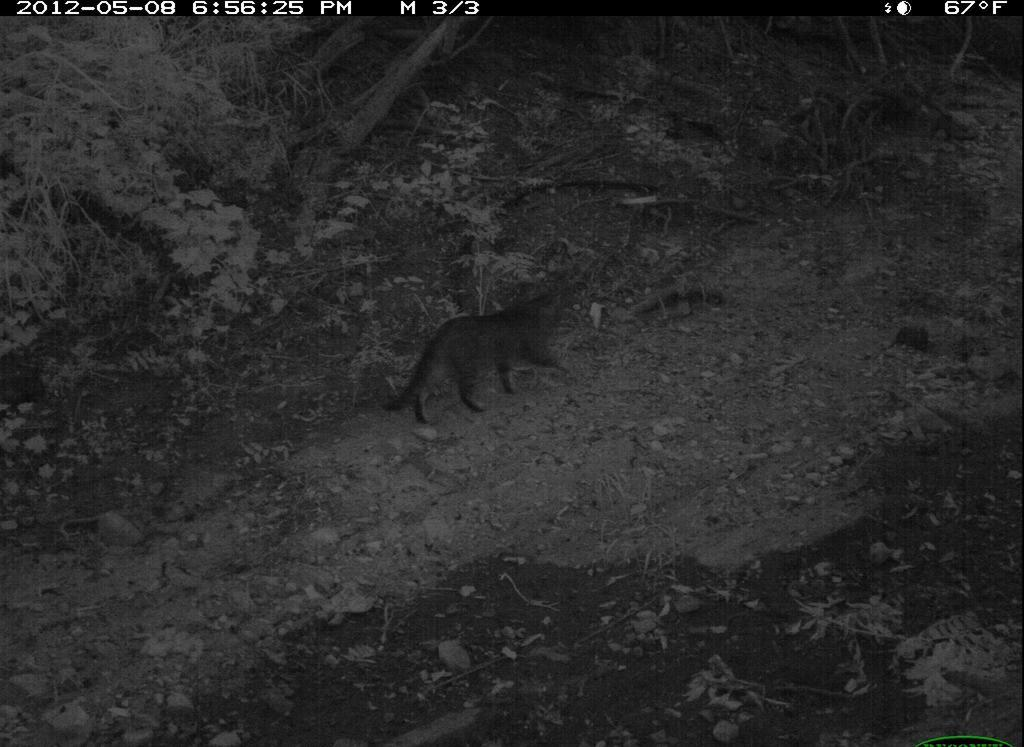cat: (377, 279, 582, 434)
